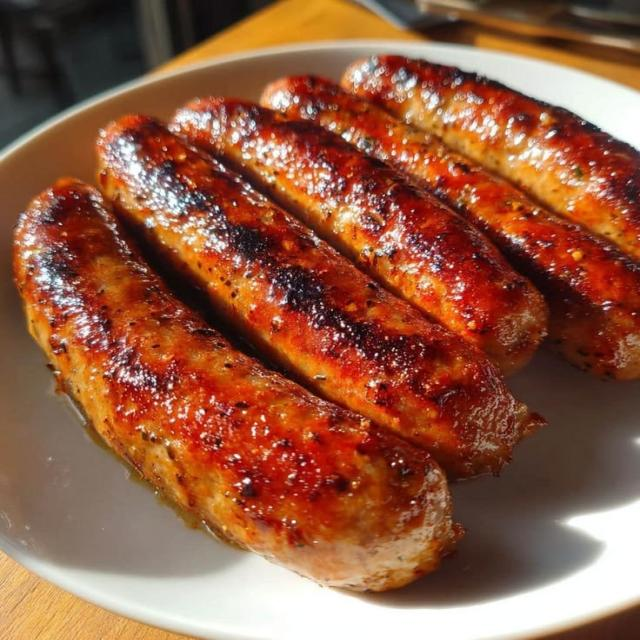sausage: (14, 180, 459, 590), (98, 117, 539, 477), (263, 77, 639, 379), (174, 98, 547, 372), (342, 56, 639, 258)
